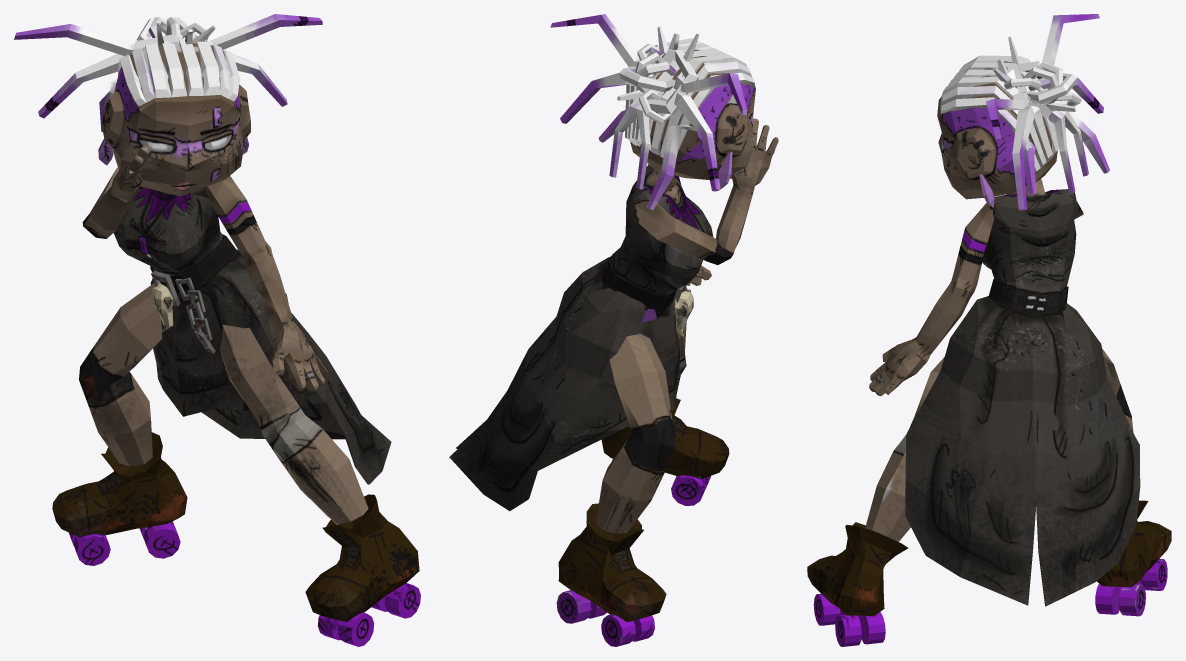
File: bruja_000018.obj
The picture shows the model from 3 angles, left to right: view 1: azimuth 30°, elevation 25°; view 2: azimuth 150°, elevation 25°; view 3: azimuth 270°, elevation 25°; orthographic projection. The views are drawn at different scales.
Visible parts, largest first — view 1: Bruja_Plane.001; view 2: Bruja_Plane.001; view 3: Bruja_Plane.001.
Part boxes in pixels (x1,y1,x2,y2): Bruja_Plane.001: (14, 14, 420, 646); Bruja_Plane.001: (449, 14, 778, 646); Bruja_Plane.001: (807, 14, 1171, 646).
Bounding box in the file's own units: 9.39 × 15.44 × 9.24.
